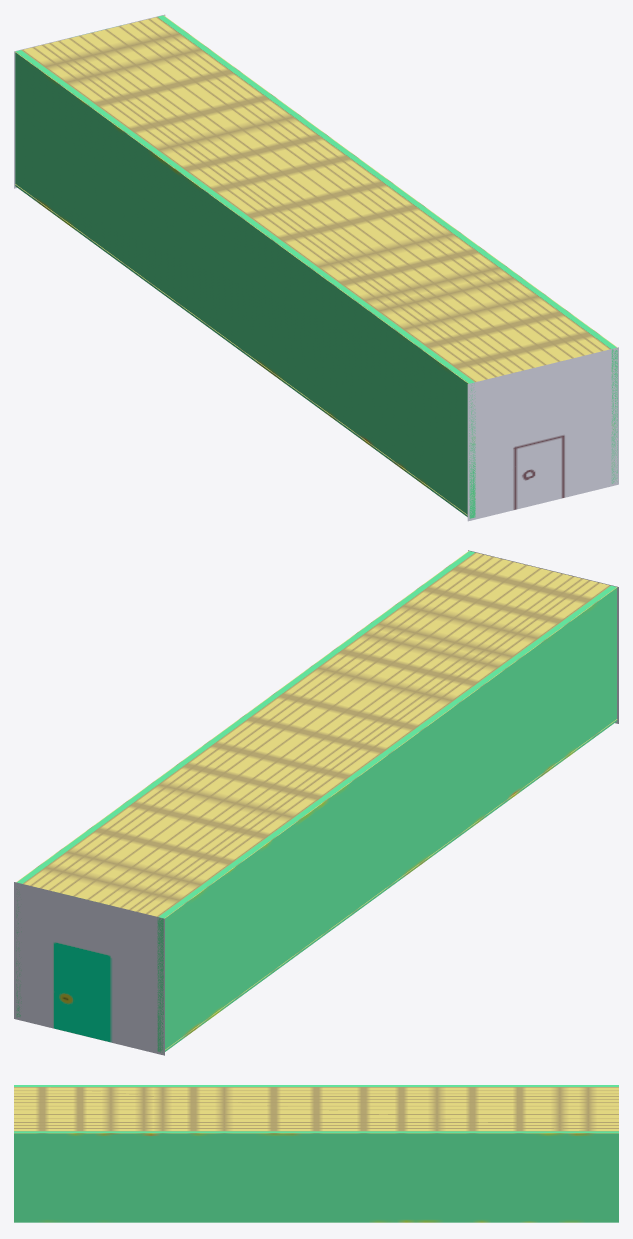
File: househallway.fbx
3 views of the same model, one above another, from view 1: azimuth 30°, elevation 25°; view 2: azimuth 150°, elevation 25°; view 3: azimuth 270°, elevation 25° (orthographic). The views are drawn at different scales.
Visible parts, largest first — view 1: wall, floor.001, doorwall.001, wall.001; view 2: wall, floor.001, doorwall, wall.001; view 3: wall.001, floor.001, wall.
Part boxes in pixels (bbox=[...]): wall: bbox=[15, 50, 475, 518]; floor.001: bbox=[15, 15, 617, 383]; doorwall.001: bbox=[467, 347, 618, 521]; wall.001: bbox=[158, 15, 617, 483]; wall: bbox=[157, 585, 616, 1052]; floor.001: bbox=[16, 551, 617, 918]; doorwall: bbox=[14, 882, 164, 1055]; wall.001: bbox=[16, 551, 474, 1017]; wall.001: bbox=[14, 1131, 618, 1222]; floor.001: bbox=[14, 1087, 618, 1133]; wall: bbox=[14, 1085, 618, 1086].
Bounding box in the file's own units: 1932 × 1668 × 10000.
4 materials, 4 textured.
